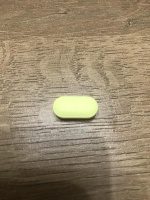Aferin: (52, 94, 99, 121)
